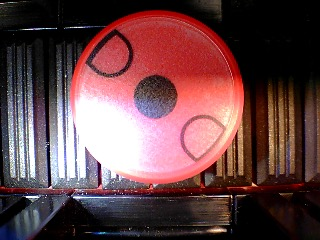BOHOMIPO2: (70, 10, 244, 184)
